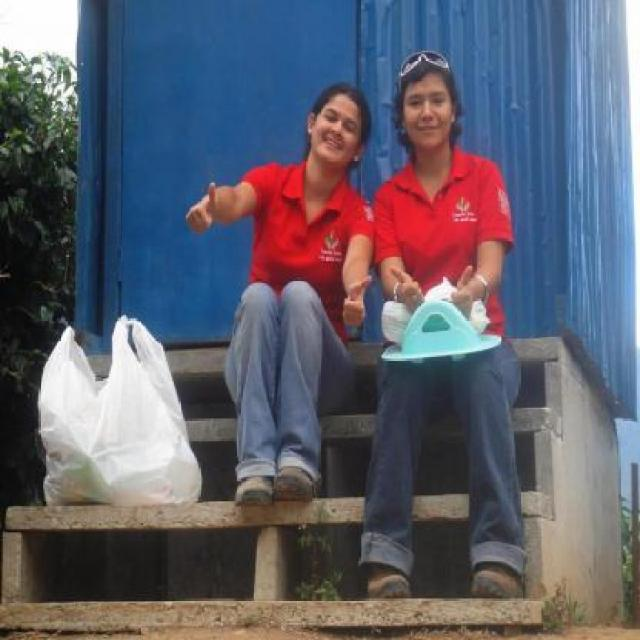plastic bag: (37, 312, 203, 505), (382, 276, 491, 346)
